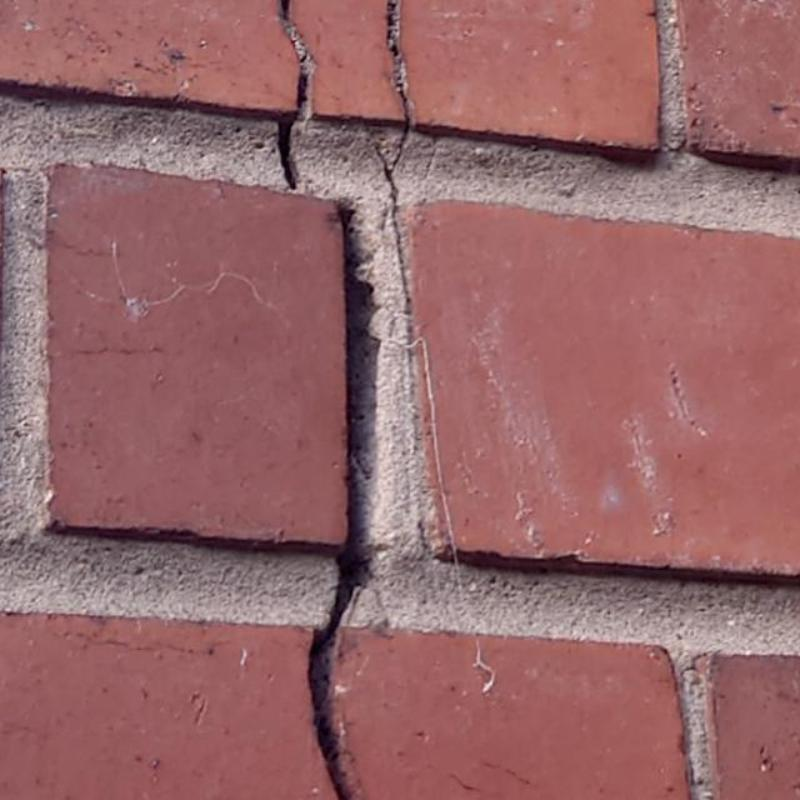pothole: (309, 208, 380, 800), (378, 1, 414, 300), (277, 1, 314, 189)
